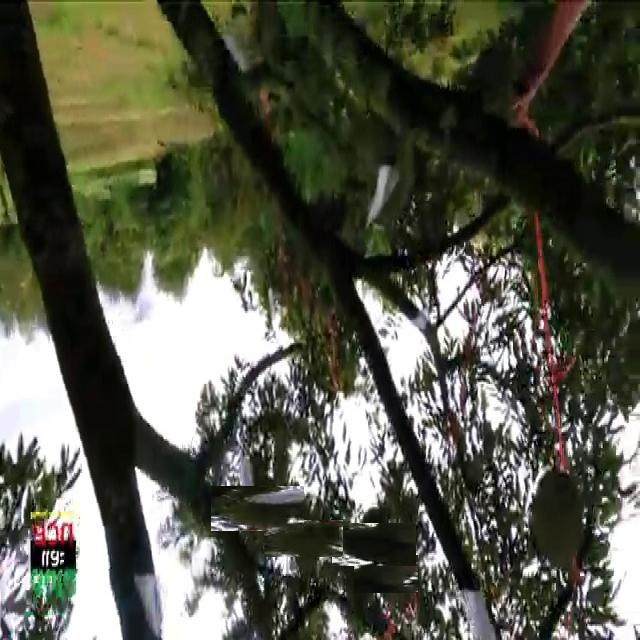durian: (526, 460, 586, 575), (223, 474, 293, 543), (342, 513, 405, 576), (274, 510, 332, 568), (360, 548, 412, 599)
